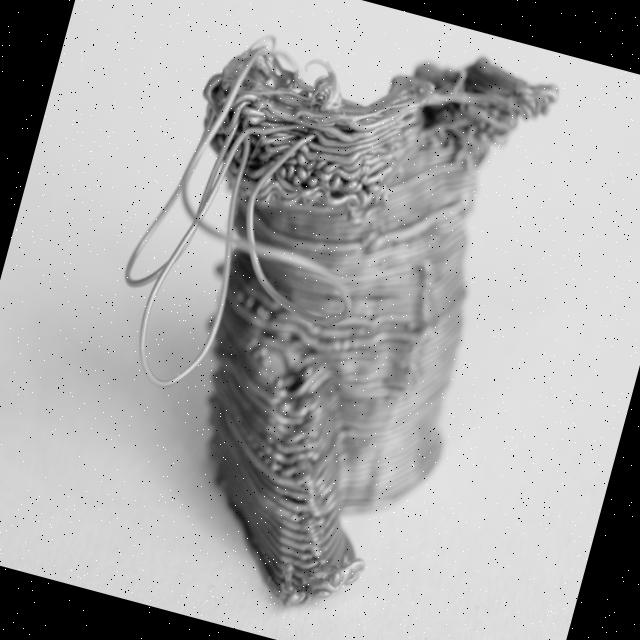spaghetti: (166, 0, 573, 279), (82, 8, 318, 404)
